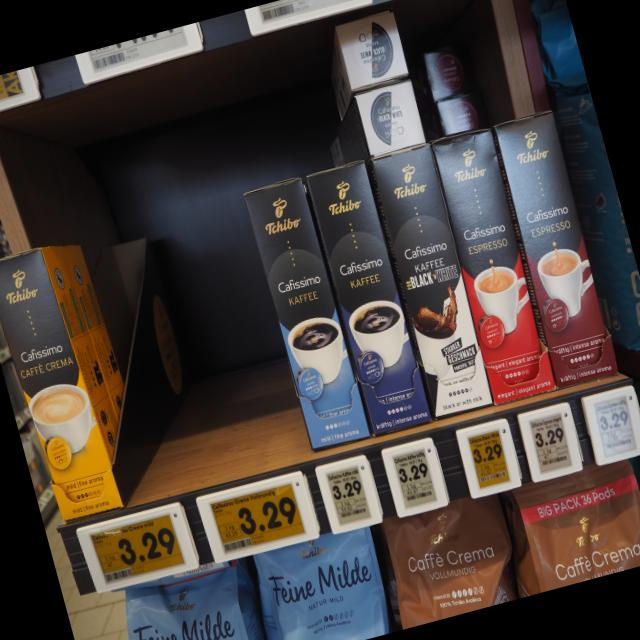Empty Shelf: (69, 192, 309, 504)
Simo CCMild bigpack: (0, 245, 126, 523)
Simo Es Elegant: (428, 124, 557, 407)
Simo Es Kraft: (491, 107, 619, 387)
Simo Kaffee BW: (366, 141, 494, 422)
Simo Kaffee Kraft: (303, 158, 434, 434)
Simo Kaffee Mild: (240, 174, 374, 453)
